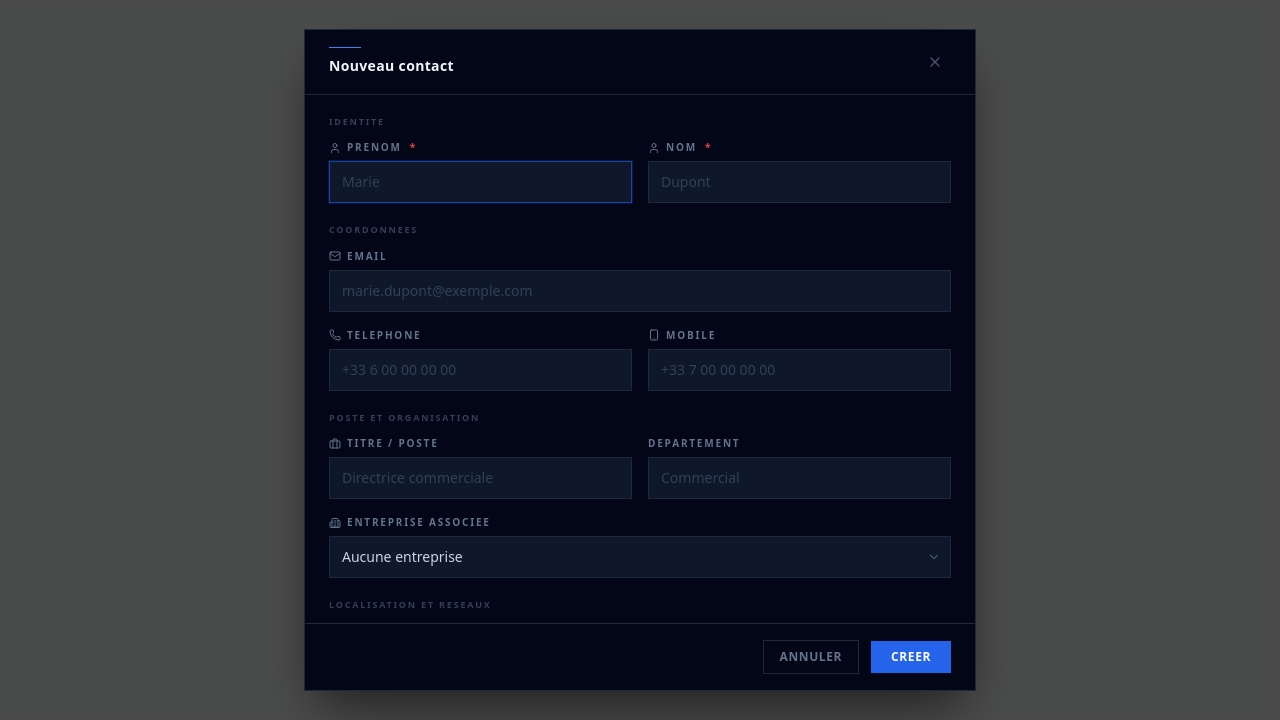
Test: ContactForm › Champs obligatoires › Given le formulaire vide, When la soumission est tentee sans nom ni prenom, Then affiche des messages d erreur de validation
Act — soumettre sans remplir les champs obligatoires
Click the button "Creer".
click(911, 657)  # box [871, 641, 951, 673]
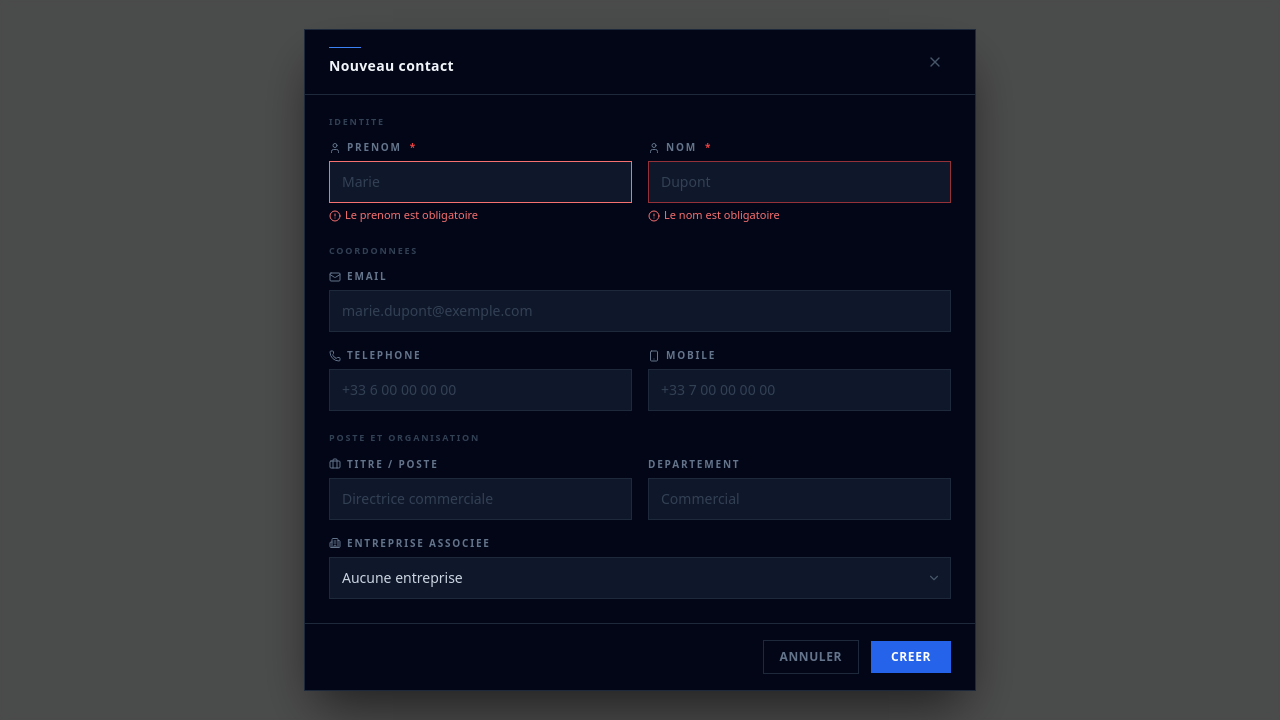
Check: the message "Le prenom est obligatoire" is shown, box [329, 207, 478, 222]
